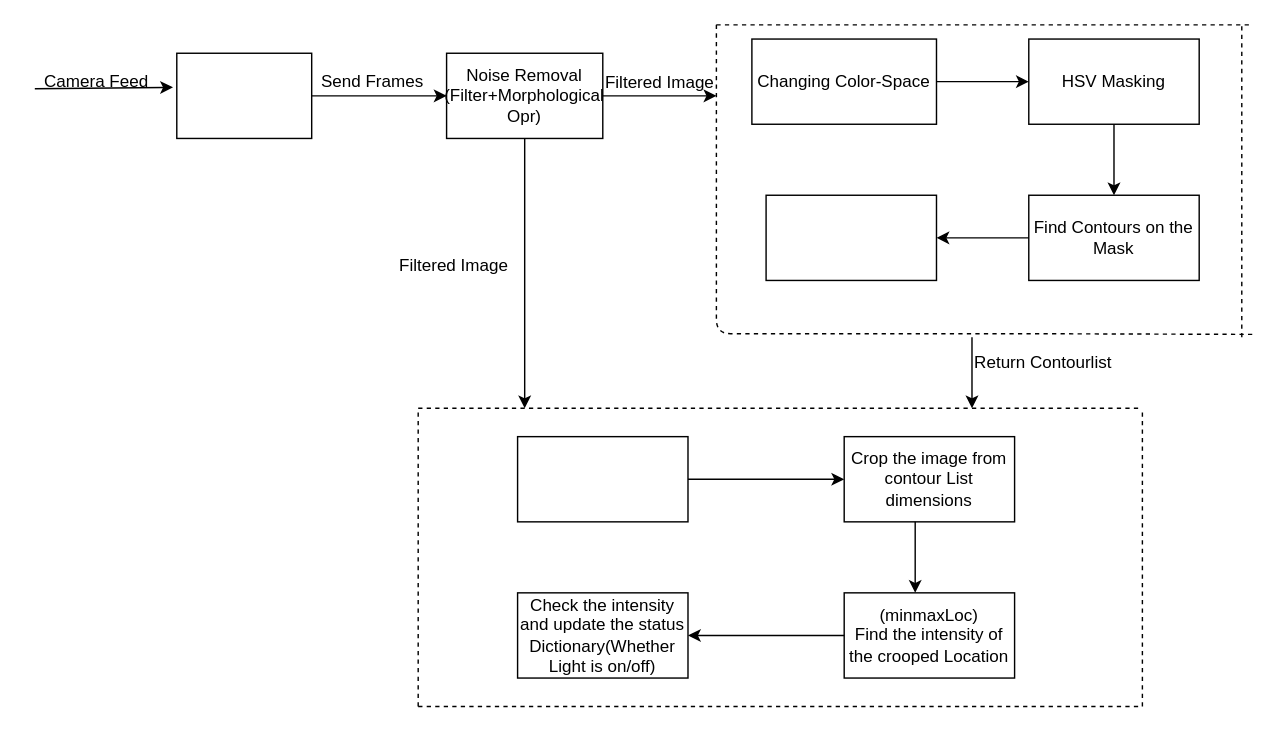
Some shapes in this 1282 by 733 pixel diagram are drawn without their labels. Here are the shapes that lost their labels. From the top down, the centre of each, then its label:
pixel 243 95: Image Capture
pixel 850 237: Draw Contours and store the contour in a List
pixel 602 478: boundingRect gives four corners of contour
